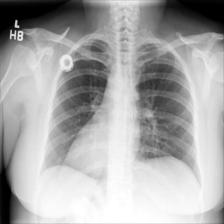normal: (37, 33, 206, 192)
